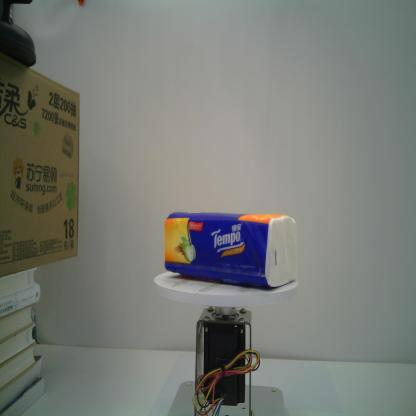Tissue: (164, 211, 298, 289)
